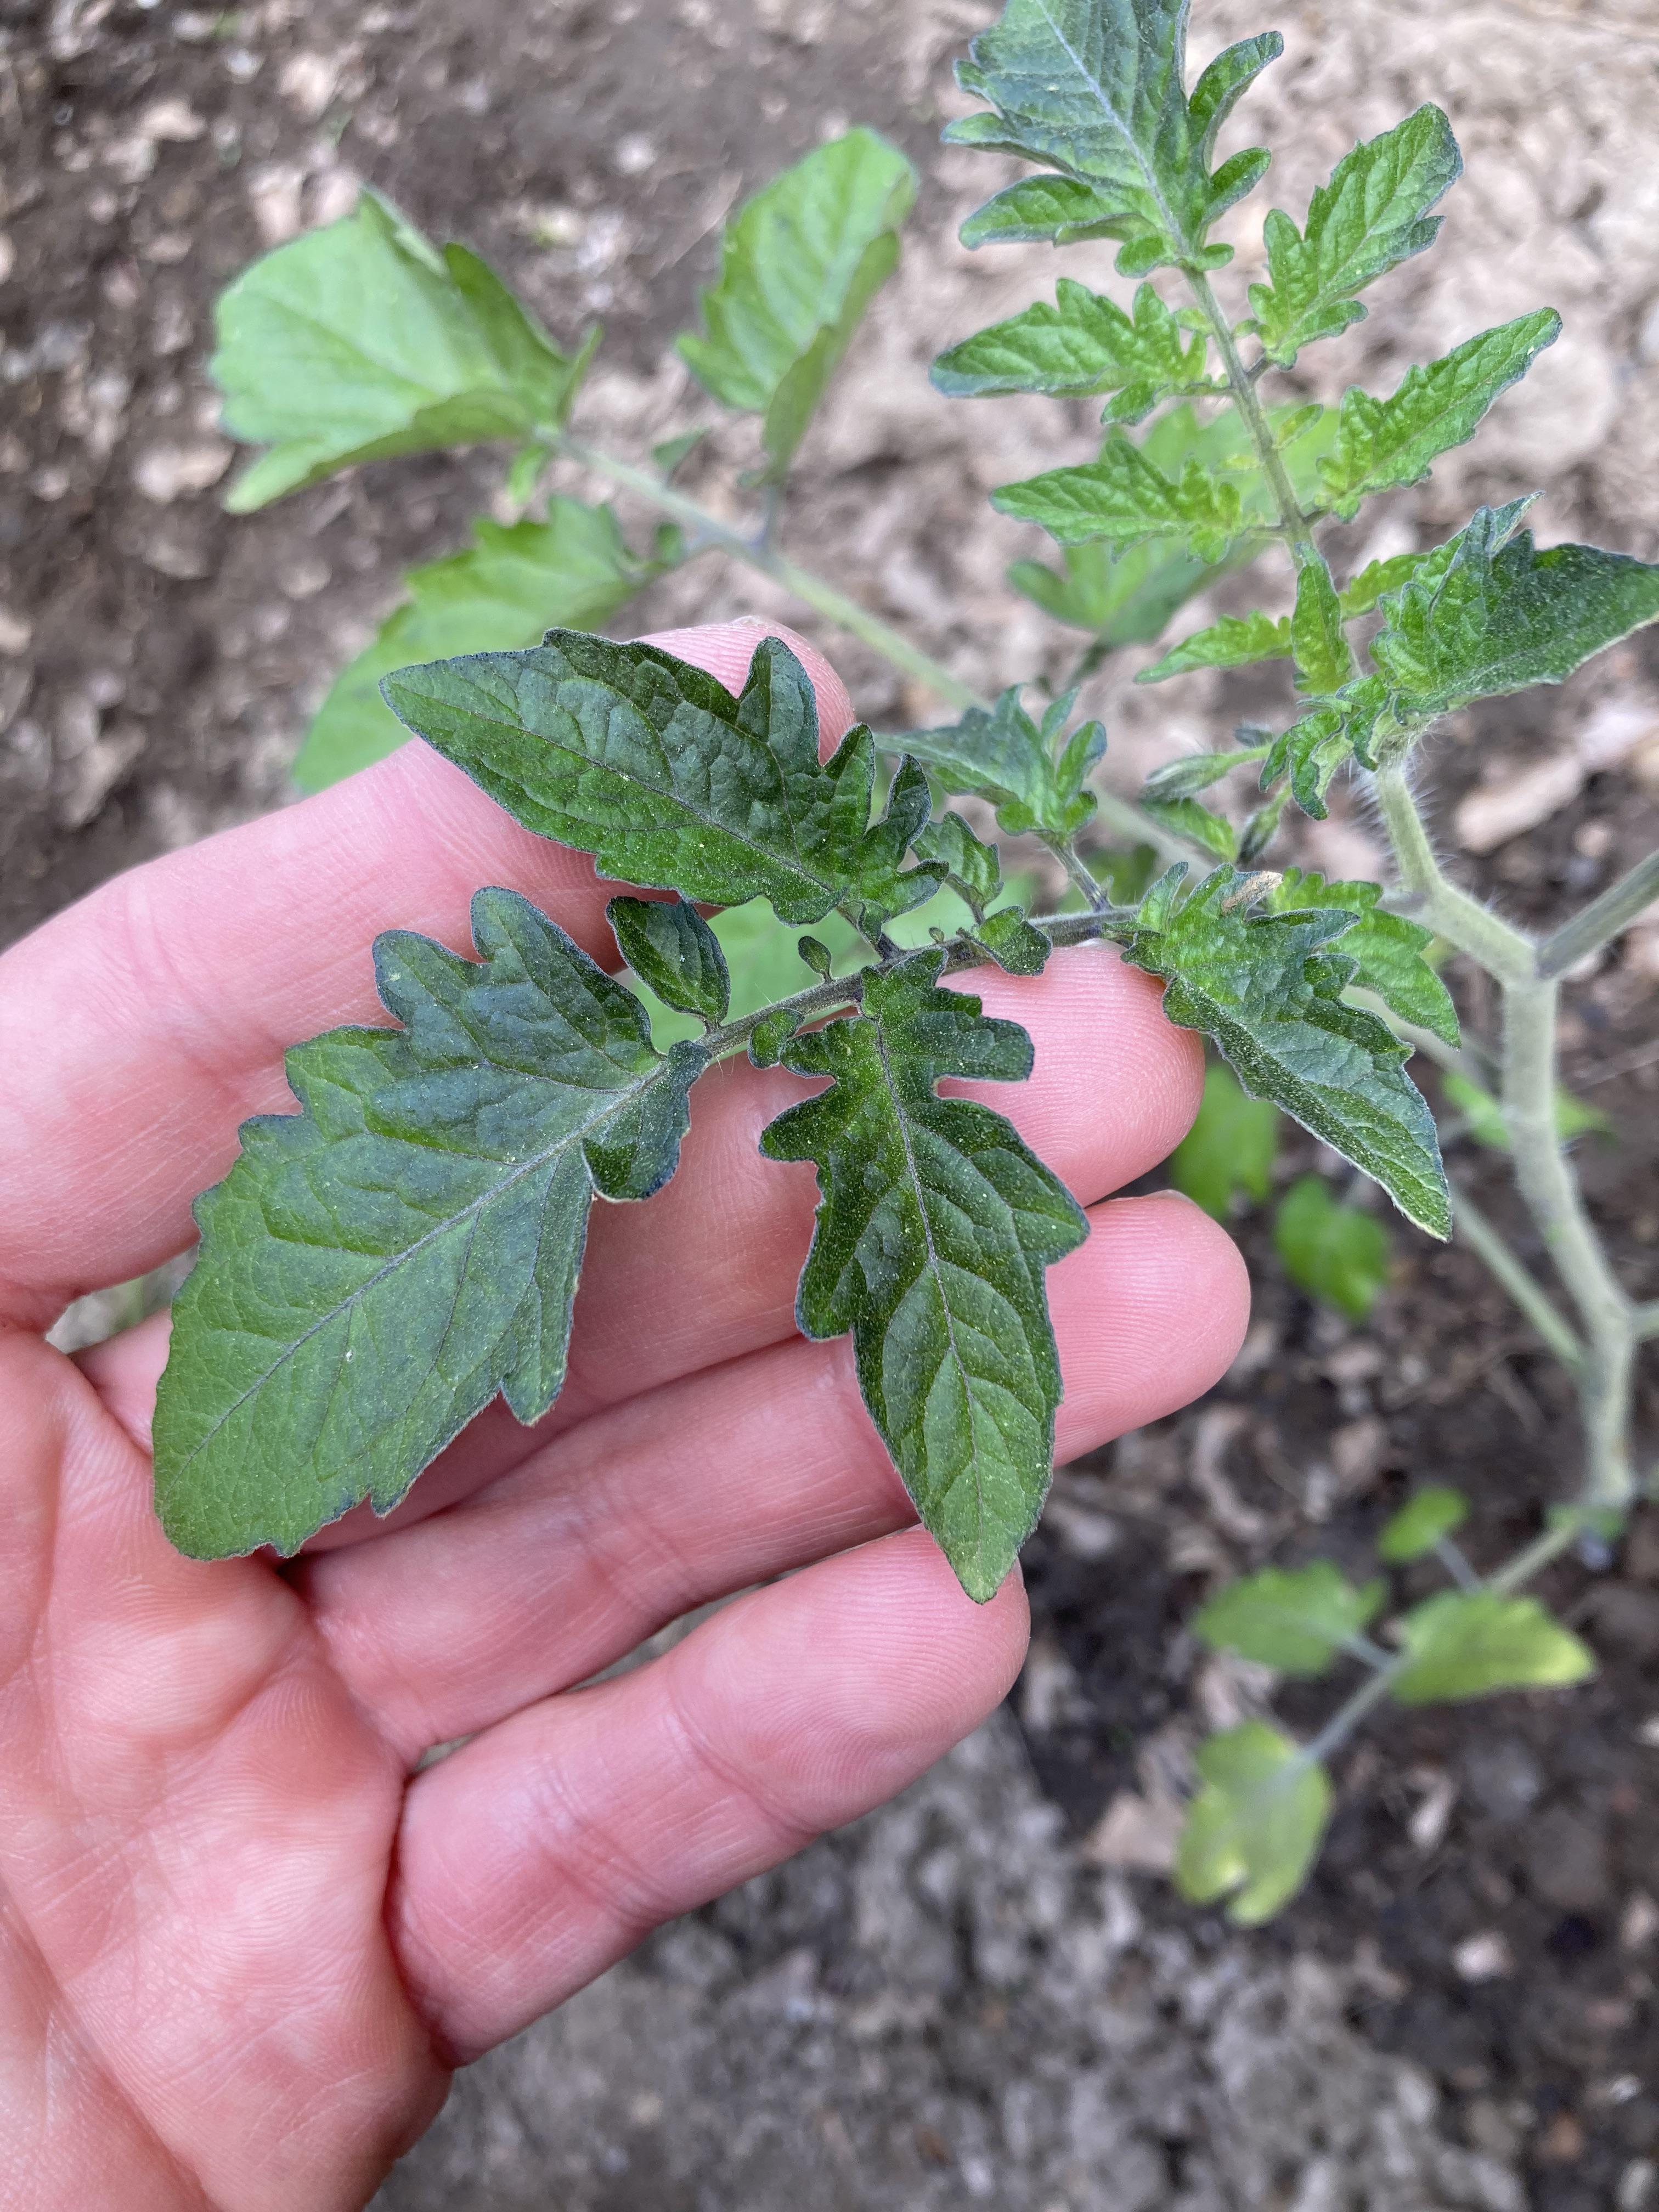healthy_leaf: (209, 298, 1359, 1803)
